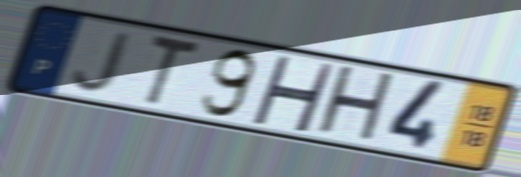4: (385, 76, 445, 156)
9: (199, 47, 259, 119)
H: (312, 62, 399, 148), (248, 52, 337, 135)
J: (70, 28, 137, 94)
T: (145, 31, 204, 110)
